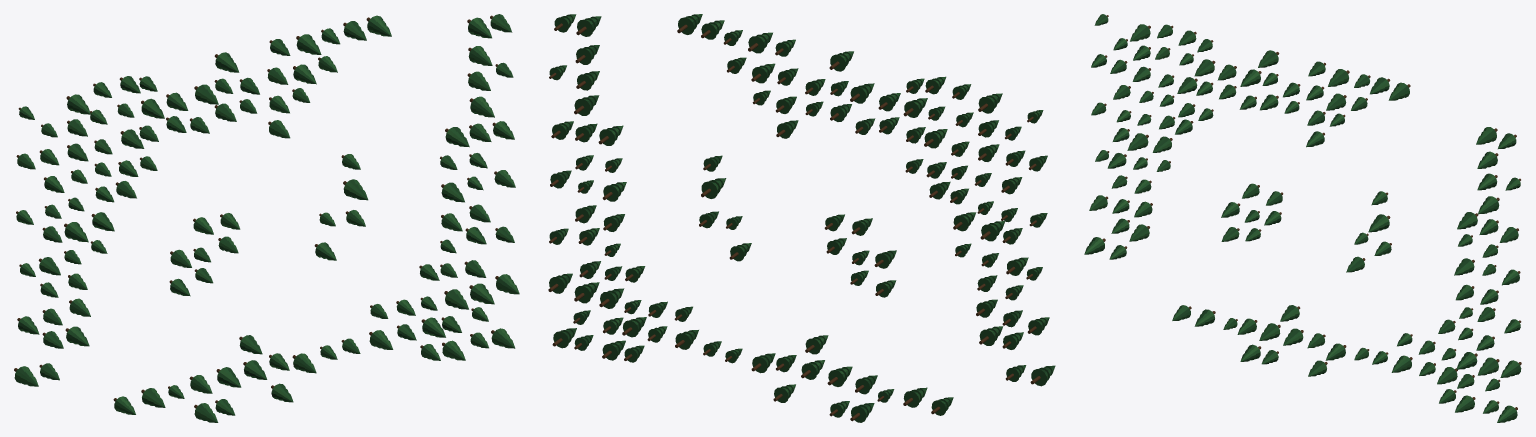
Rendered from forest_far.obj.
The picture shows the model from 3 angles, left to right: view 1: azimuth 30°, elevation 25°; view 2: azimuth 150°, elevation 25°; view 3: azimuth 330°, elevation 25°; orthographic projection. The views are drawn at different scales.
Visible parts, largest first — view 1: forest_far; view 2: forest_far; view 3: forest_far.
Boxes of the visible parts, x1,y1,x2,y2 form: forest_far: (14,14,519,422); forest_far: (548,14,1055,422); forest_far: (1084,14,1521,422).
Bounding box in the file's own units: 67.4 × 46.9 × 5.62.
